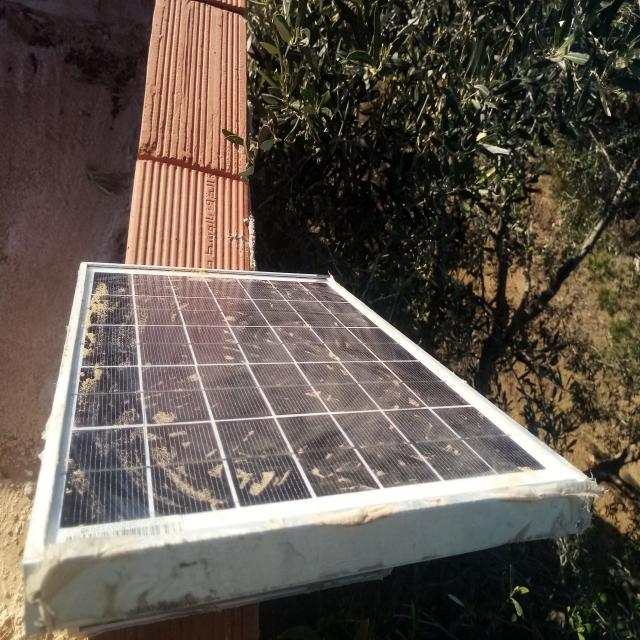faulty: (25, 261, 588, 566)
